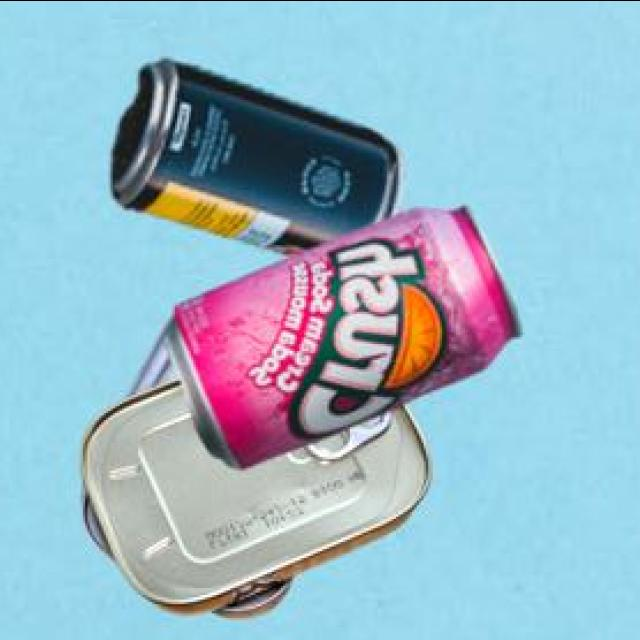logam: (77, 307, 427, 614), (162, 201, 519, 464), (109, 54, 402, 250)
